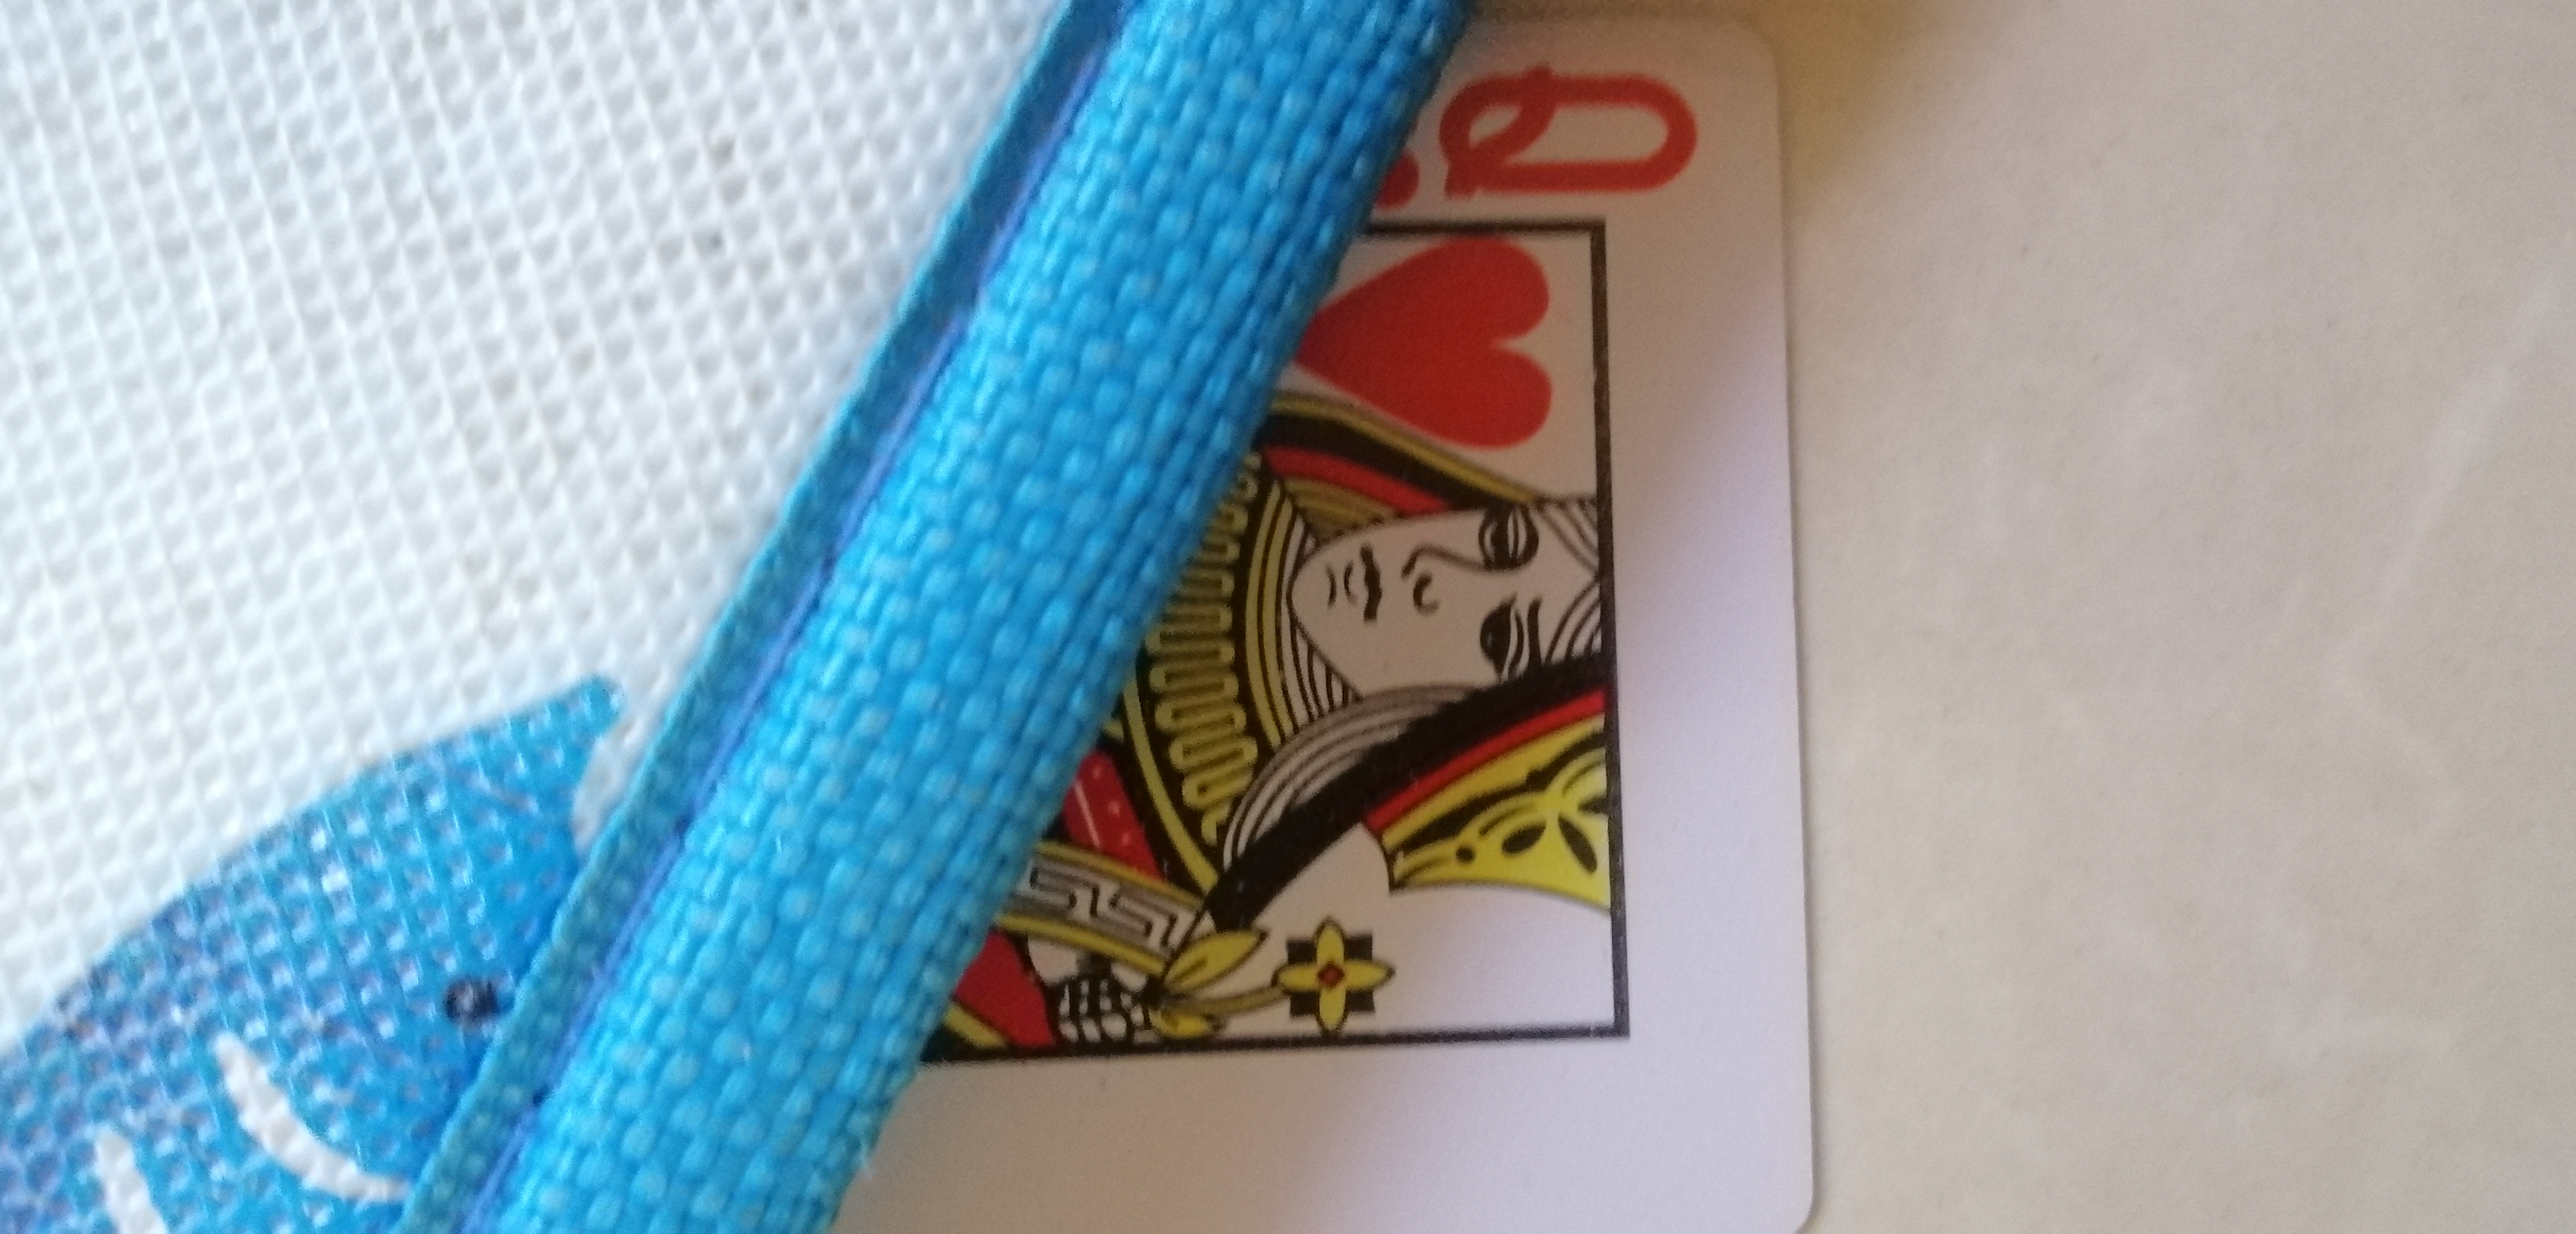queen: (812, 10, 1889, 1234)
